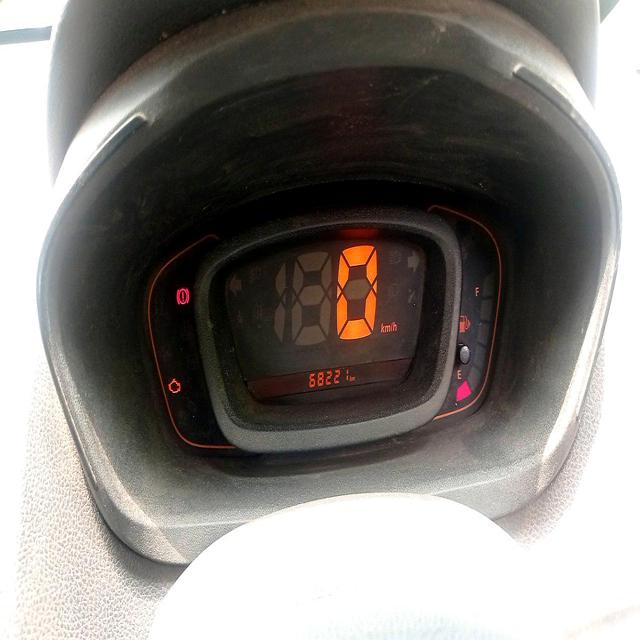odometer: (303, 363, 350, 392)
